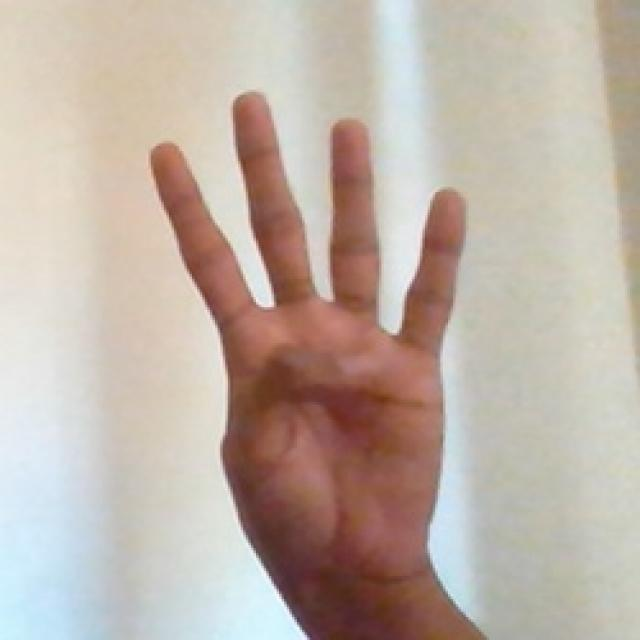Numeric-4: (150, 79, 470, 591)
